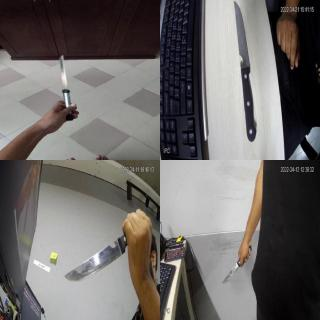knife: (232, 1, 262, 140), (64, 228, 122, 288), (50, 54, 76, 96), (220, 260, 242, 290)
